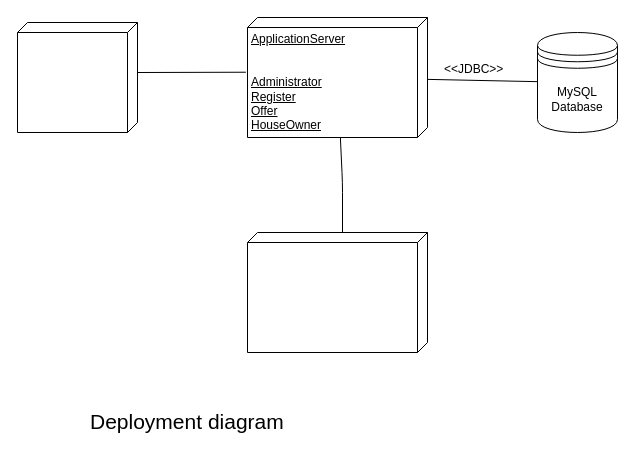
This 635x452 diagram has some shape labels left out. Here are the shapes that lost their labels. From the top down, the centre of each, then its label:
At point 77,77: "WebServer Administrator".
At point 337,292: "Mainframe SiteManagement".
